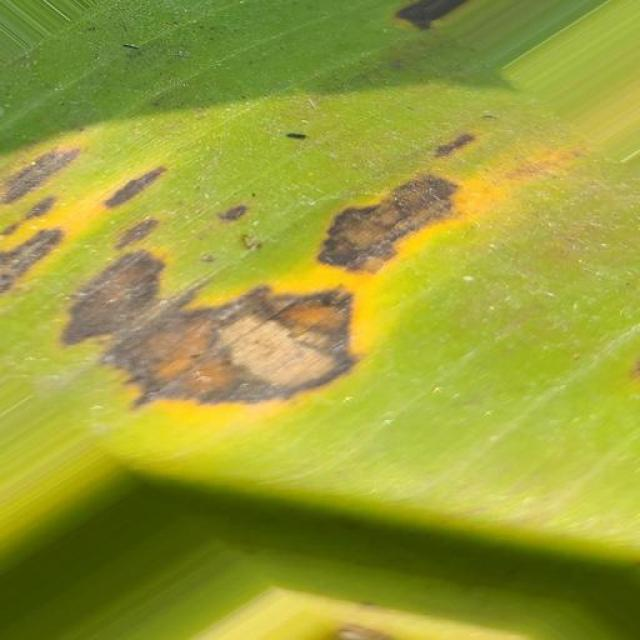Early_rust: (0, 0, 583, 453)
